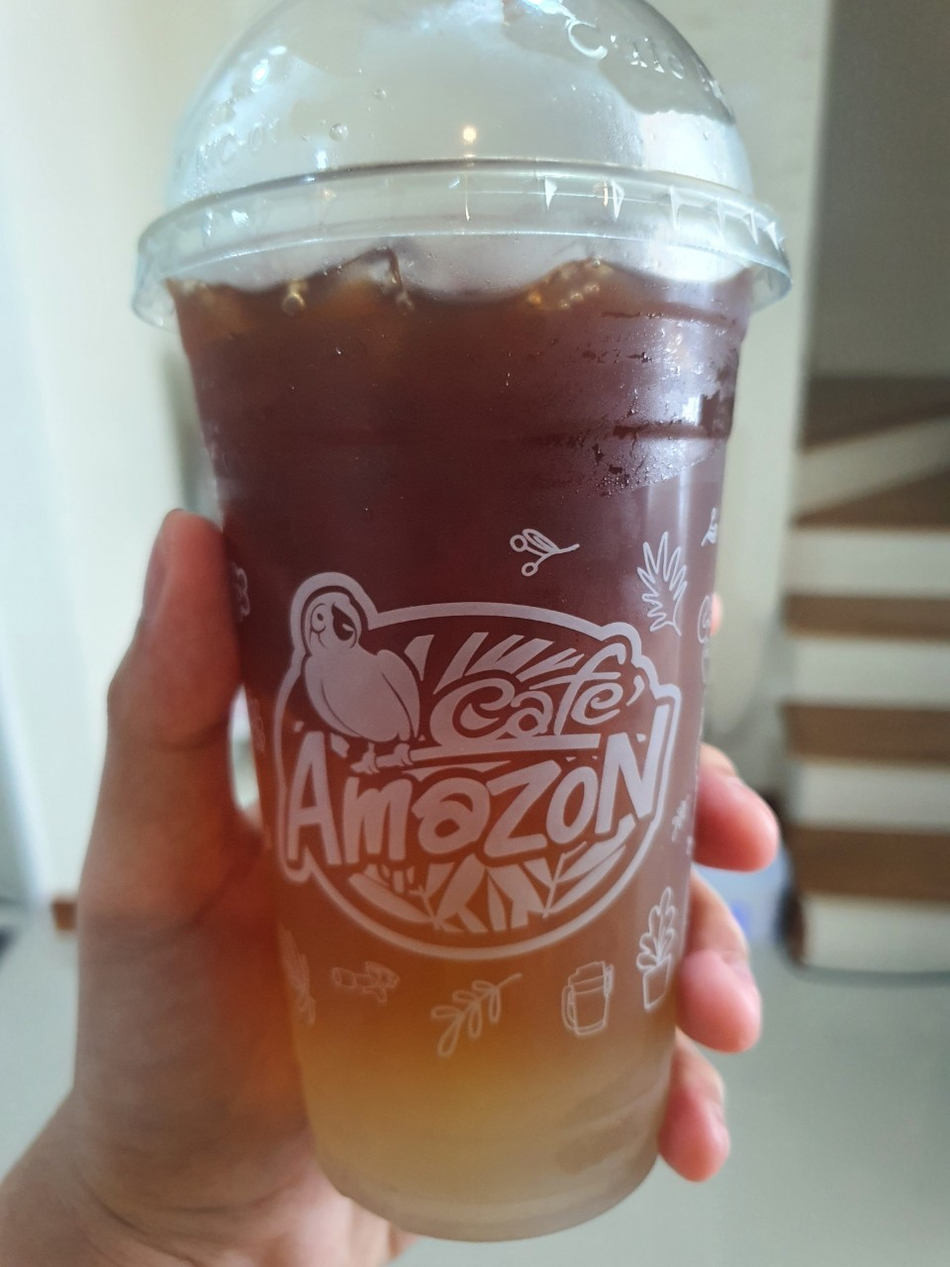plastic: (107, 0, 813, 1260)
